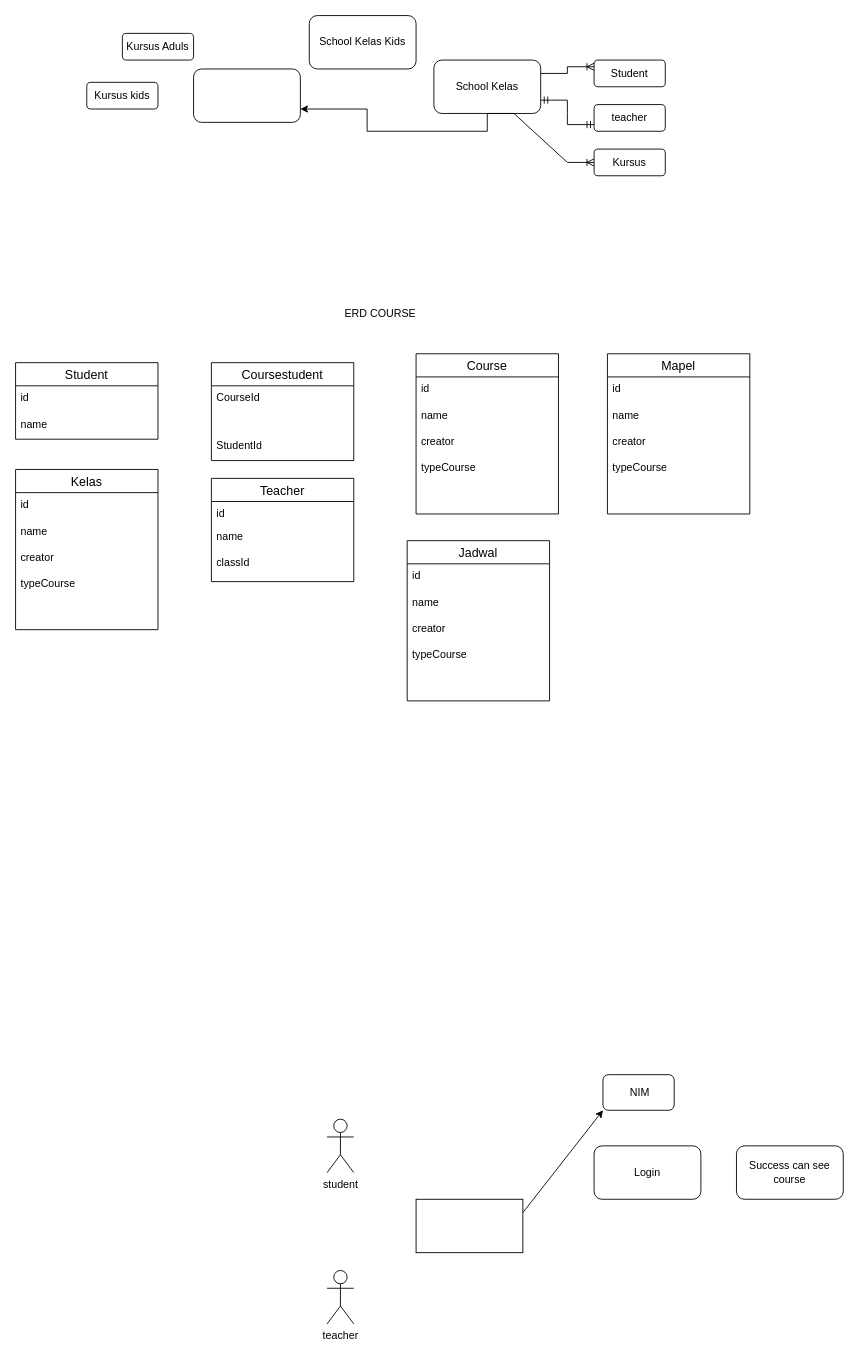
Image size: 859x1358. Some labels were removed from this diagram. Each missing label, with the centre of its shape:
"register" belongs at (x=469, y=1225).
"School Kelas Aduls" belongs at (x=246, y=95).
